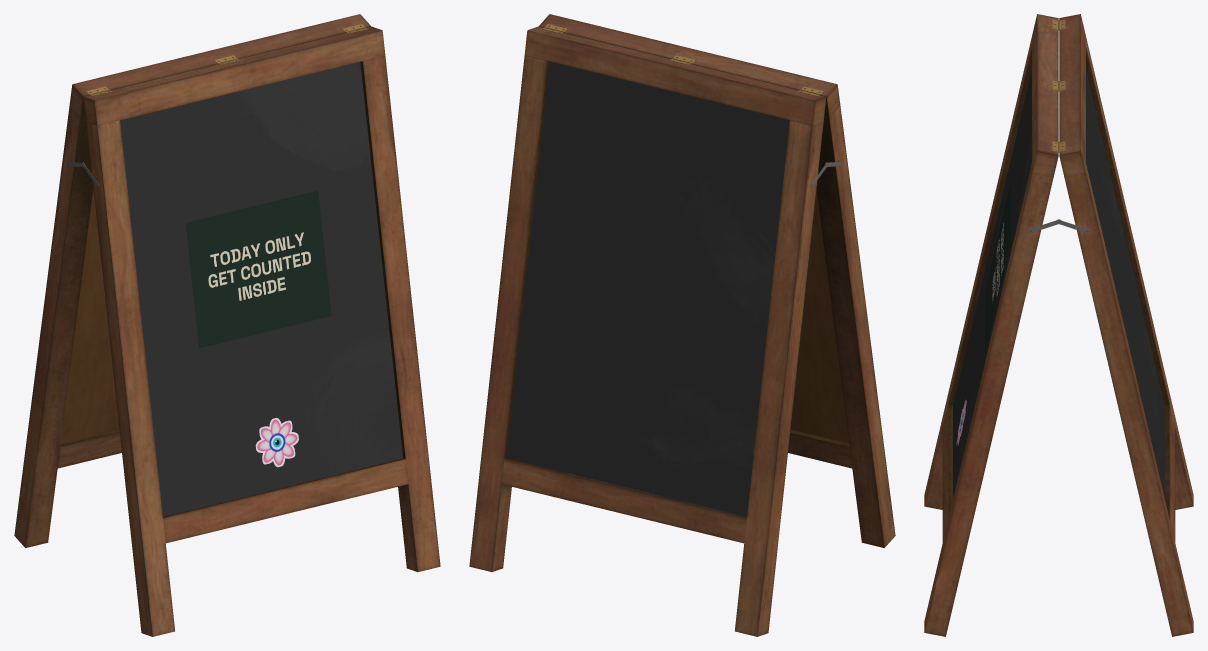
Rendered from nyb_aframe_sign.glb.
3 views of the same model, side by side, from view 1: azimuth 30°, elevation 25°; view 2: azimuth 150°, elevation 25°; view 3: azimuth 270°, elevation 25° (orthographic). The views are drawn at different scales.
Visible parts, largest first — view 1: standing_chalkboard_01, stk_lbl_5b86eb02ce.png, stk_eyeflower_die.png; view 2: standing_chalkboard_01; view 3: standing_chalkboard_01, stk_lbl_5b86eb02ce.png.
Boxes of the visible parts, x1,y1,x2,y2 form: standing_chalkboard_01: [14, 14, 440, 636]; stk_lbl_5b86eb02ce.png: [185, 190, 331, 348]; stk_eyeflower_die.png: [255, 417, 298, 467]; standing_chalkboard_01: [469, 14, 895, 636]; standing_chalkboard_01: [924, 14, 1193, 636]; stk_lbl_5b86eb02ce.png: [985, 181, 1011, 353].
Size of the model in its own units: 0.9195 by 1.51 by 0.7587.
Materials: 4 (4 with a texture image).
